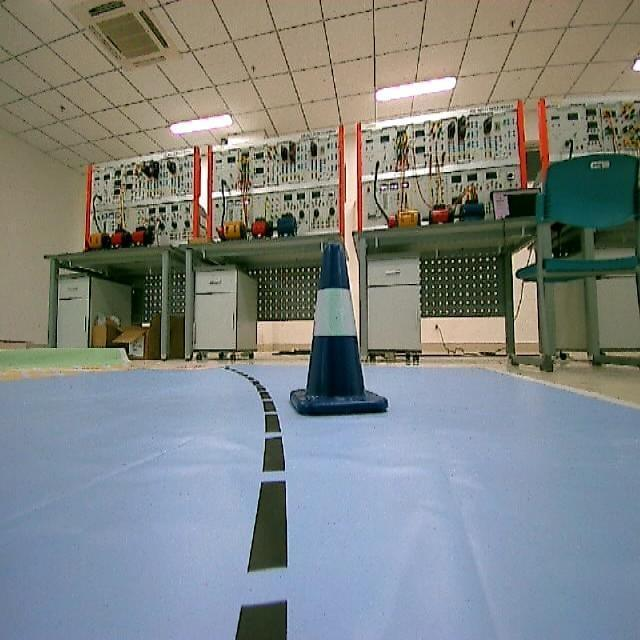obstacle: (286, 240, 394, 420)
